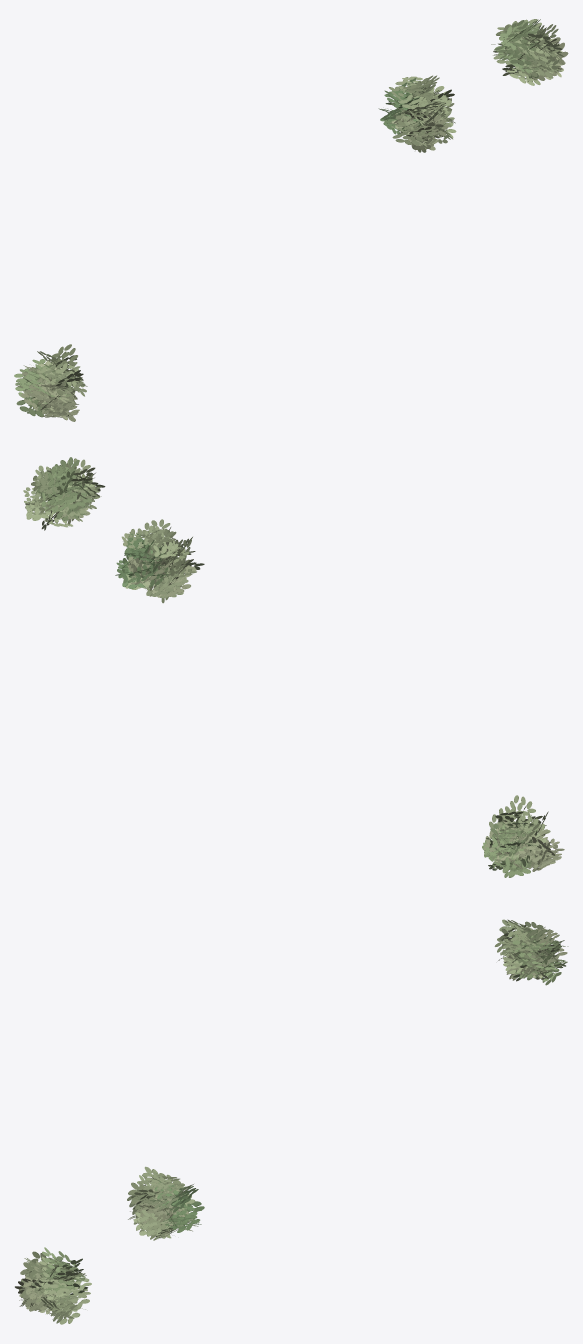
Rendered from campus-tree-1_-2-far.glb.
3 renders of one model, top to bottom at view 1: azimuth 90°, elevation 25°; view 2: azimuth 150°, elevation 25°; view 3: azimuth 270°, elevation 25°, orthographic.
Parts seen in each view (by area): view 1: Campus leaf canopy; view 2: Campus leaf canopy; view 3: Campus leaf canopy.
Boxes of the visible parts, box(x1,y1,x2,y2) form: Campus leaf canopy: box(14, 19, 568, 421); Campus leaf canopy: box(23, 457, 564, 877); Campus leaf canopy: box(15, 919, 568, 1324).
Bounding box in the file's own units: 57.31 × 5.91 × 36.17.
1 material, 1 textured.
